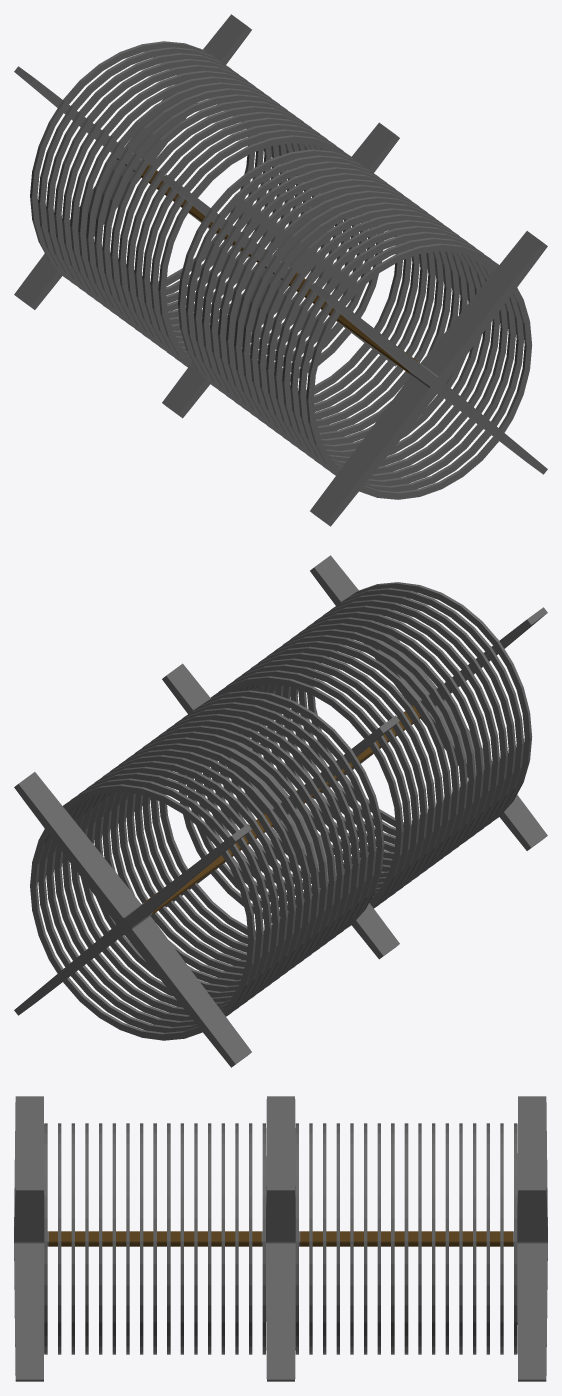
The model's file is RoadblockB.fbx.
3 views of the same model, one above another, from view 1: azimuth 30°, elevation 25°; view 2: azimuth 150°, elevation 25°; view 3: azimuth 270°, elevation 25° (orthographic). The views are drawn at different scales.
Visible parts, largest first — view 1: Circle, Plane; view 2: Circle, Plane; view 3: Circle, Plane.
Boxes of the visible parts, left/top/right/bottom form: Circle: left=30, top=41, right=532, bottom=499; Plane: left=14, top=14, right=547, bottom=526; Circle: left=30, top=582, right=532, bottom=1040; Plane: left=14, top=555, right=547, bottom=1067; Circle: left=44, top=1123, right=517, bottom=1354; Plane: left=14, top=1096, right=547, bottom=1381.
Size of the model in its own units: 52.48 by 55.76 by 128.
